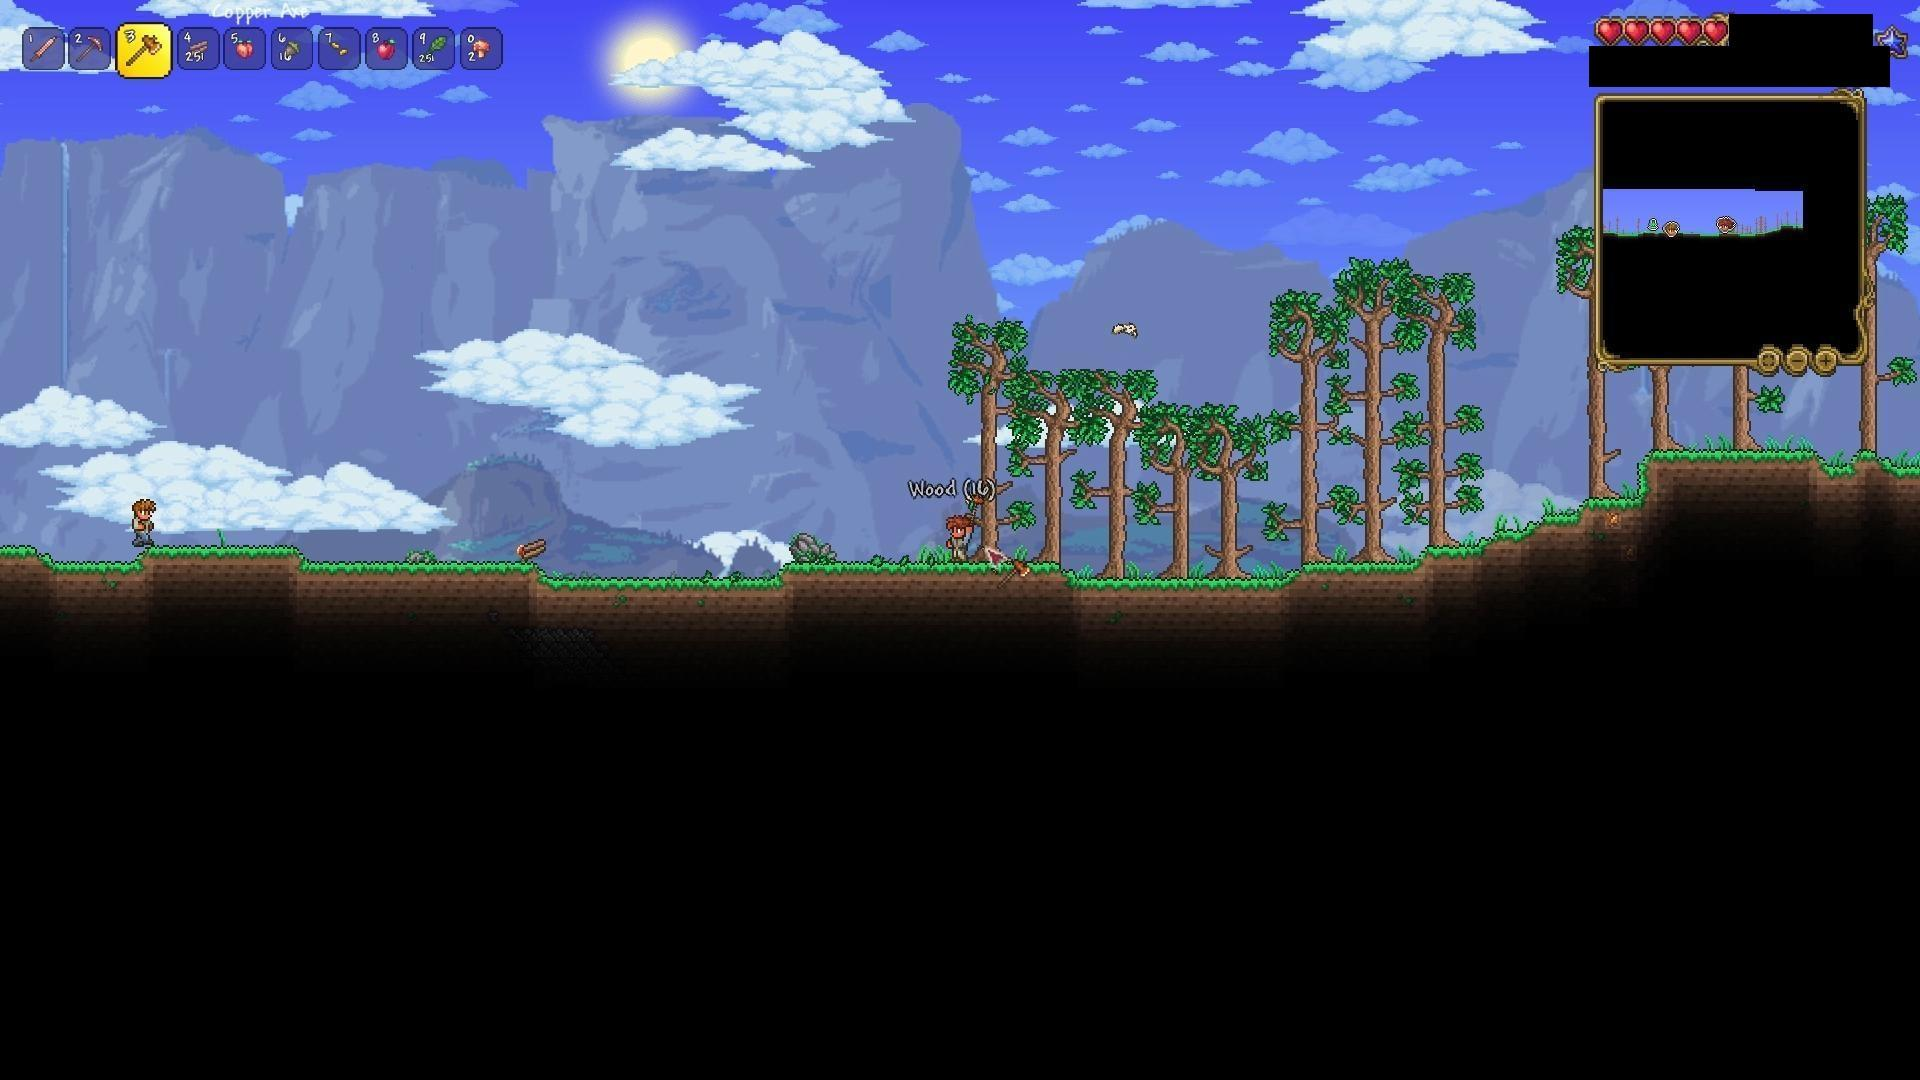dirt: (0, 537, 538, 604), (1648, 434, 1920, 504), (501, 556, 807, 604), (761, 554, 1079, 596), (1044, 560, 1309, 608), (1429, 492, 1585, 570), (1294, 542, 1444, 596), (1578, 447, 1665, 516)
heart: (1702, 17, 1733, 51), (1593, 16, 1626, 46), (1676, 15, 1704, 50), (1650, 16, 1676, 49), (1625, 15, 1651, 44)
tree: (1412, 284, 1470, 564), (952, 310, 1015, 555), (1283, 298, 1332, 576), (1350, 260, 1390, 564), (1085, 367, 1139, 585), (1145, 396, 1205, 588), (1023, 372, 1080, 570), (1205, 410, 1255, 574)
